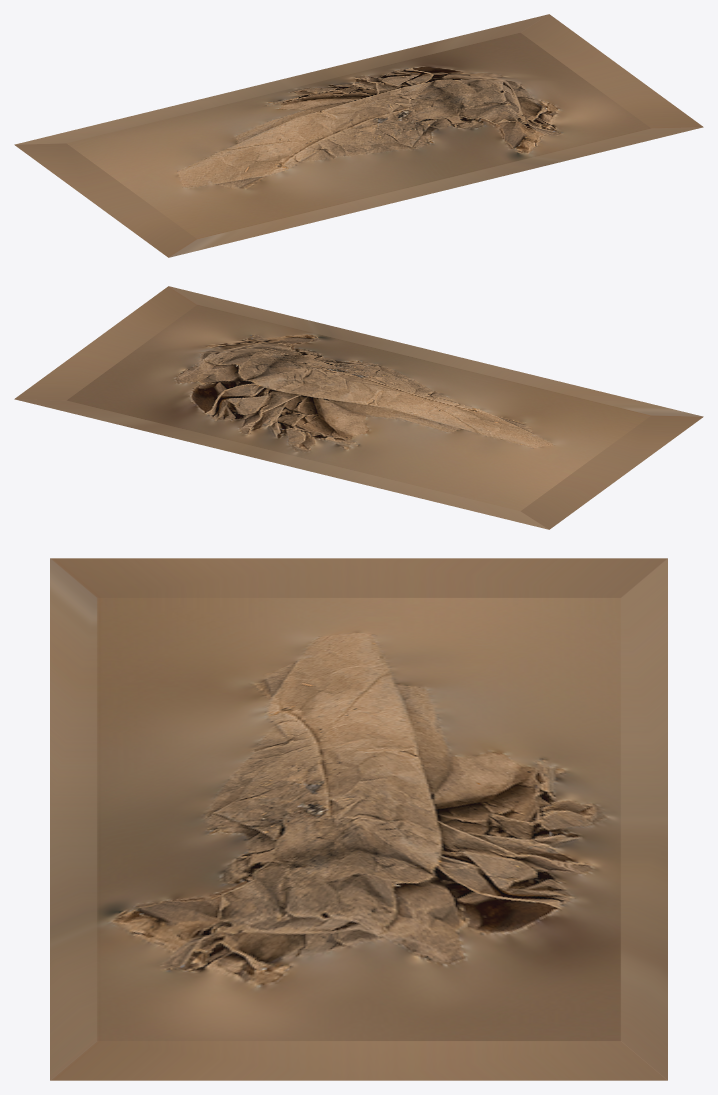
The model's file is sm_Paper_01_01.fbx.
3 renders of one model, top to bottom at view 1: azimuth 30°, elevation 25°; view 2: azimuth 150°, elevation 25°; view 3: azimuth 270°, elevation 25°, orthographic. The views are drawn at different scales.
Visible parts, largest first — view 1: sm_Paper_01_01_LOD0; view 2: sm_Paper_01_01_LOD0; view 3: sm_Paper_01_01_LOD0.
Part boxes in pixels (x1,y1,x2,y2): sm_Paper_01_01_LOD0: (14, 14, 703, 257); sm_Paper_01_01_LOD0: (14, 286, 703, 529); sm_Paper_01_01_LOD0: (50, 558, 667, 1080).
Size of the model in its own units: 48.3 by 24.15 by 2.21.
